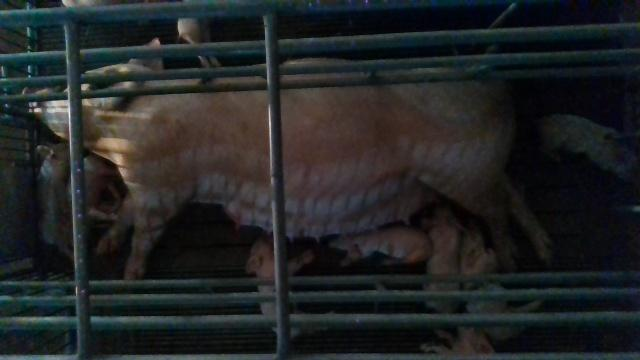piglet: (246, 229, 334, 337), (461, 226, 544, 339), (544, 110, 636, 178), (60, 155, 119, 248), (32, 141, 75, 259), (422, 199, 463, 314), (331, 226, 432, 265)
sow-sleep-lactate: (22, 39, 554, 280)
